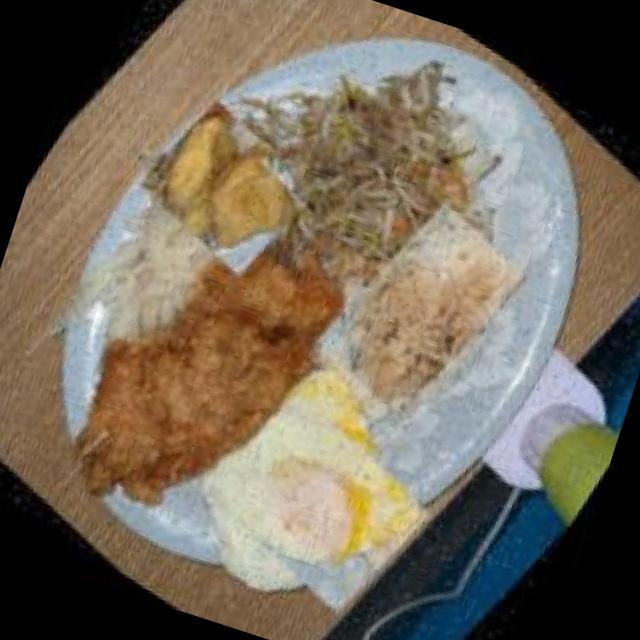chicken_nuggets: (112, 78, 340, 300)
fried_chicken: (6, 153, 400, 600)
fried_eggs: (139, 324, 464, 640)
mung_bean_sprouts: (230, 39, 505, 314)
rice: (290, 166, 548, 452)
